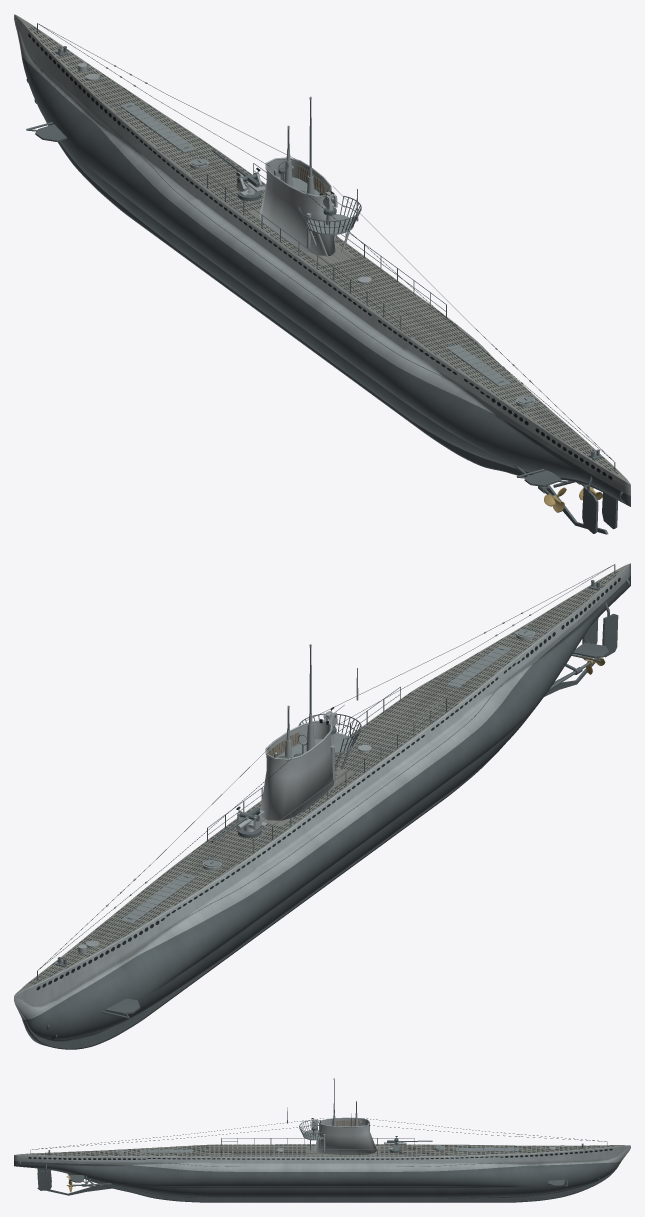
File: type-viic.glb
3 views of the same model, one above another, from view 1: azimuth 30°, elevation 25°; view 2: azimuth 150°, elevation 25°; view 3: azimuth 270°, elevation 25° (orthographic). The views are drawn at different scales.
Parts seen in each view (by area): view 1: hull.envelope, deck.mesh, conning-tower.mesh, casing.mesh, wintergarten.mesh, rigging.mesh, rails.mesh, bridge.mesh; view 2: hull.envelope, deck.mesh, conning-tower.mesh, casing.mesh, rigging.mesh, rails.mesh, wintergarten.mesh, bridge.mesh; view 3: hull.envelope, deck.mesh, conning-tower.mesh, casing.mesh, rails.mesh, rigging.mesh, wintergarten.mesh, bridge.mesh, rudder-starboard.pivot.mesh, stern-keel.mesh.
Part boxes in pixels (box(x1,y1,x2,y2)): hull.envelope: box(14, 14, 630, 506); deck.mesh: box(14, 14, 630, 484); conning-tower.mesh: box(259, 159, 335, 255); casing.mesh: box(28, 33, 612, 479); wintergarten.mesh: box(298, 196, 361, 256); rigging.mesh: box(37, 23, 615, 471); rails.mesh: box(207, 163, 446, 329); bridge.mesh: box(265, 157, 331, 197); hull.envelope: box(14, 563, 630, 1049); deck.mesh: box(14, 563, 630, 995); conning-tower.mesh: box(260, 722, 335, 820); casing.mesh: box(36, 577, 620, 990); rigging.mesh: box(37, 564, 615, 980); rails.mesh: box(207, 686, 446, 852); wintergarten.mesh: box(298, 713, 361, 771); bridge.mesh: box(265, 720, 331, 760); hull.envelope: box(14, 1145, 630, 1202); deck.mesh: box(15, 1143, 629, 1156); conning-tower.mesh: box(314, 1118, 376, 1154); casing.mesh: box(28, 1148, 612, 1159); rails.mesh: box(221, 1138, 414, 1156); rigging.mesh: box(30, 1118, 607, 1154); wintergarten.mesh: box(299, 1120, 323, 1150); bridge.mesh: box(318, 1117, 369, 1127); rudder-starboard.pivot.mesh: box(37, 1170, 51, 1190); stern-keel.mesh: box(37, 1185, 112, 1195).
Bounding box in the file's own units: 6.5 × 14.65 × 67.1.
Materials: 18 (14 with a texture image).
